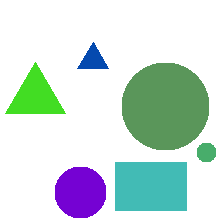circle: (122, 63, 208, 149), (55, 167, 105, 217), (197, 143, 215, 161)
rectangle: (115, 162, 186, 210)
triangle: (5, 62, 65, 113), (77, 42, 108, 68)
